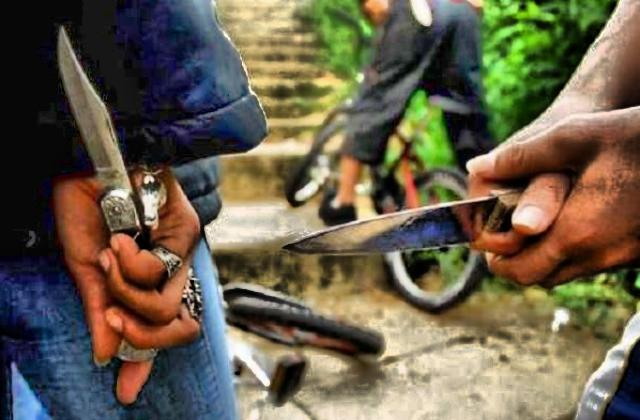knife: (46, 21, 186, 321)
